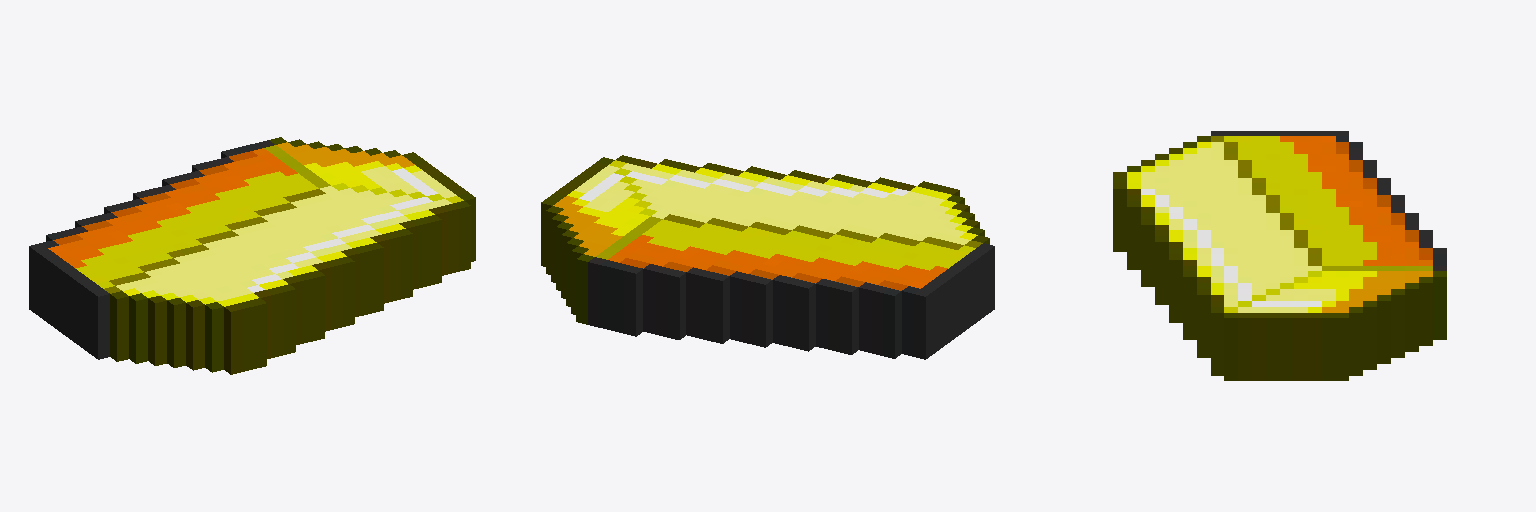
3 views of the same model, side by side, from view 1: azimuth 30°, elevation 25°; view 2: azimuth 150°, elevation 25°; view 3: azimuth 270°, elevation 25° (orthographic).
Parts seen in each view (by area): view 1: Goldbar; view 2: Goldbar; view 3: Goldbar.
Part boxes in pixels (x1,y1,x2,y2): Goldbar: (29,137,475,374); Goldbar: (541,155,994,359); Goldbar: (1113,131,1446,380).
Size of the model in its own units: 3.2 by 0.5 by 2.4.
1 materials, 1 textured.